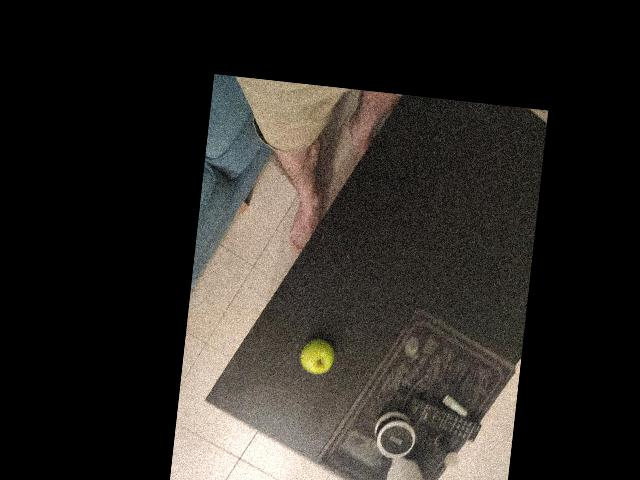apple: (292, 375, 357, 423)
